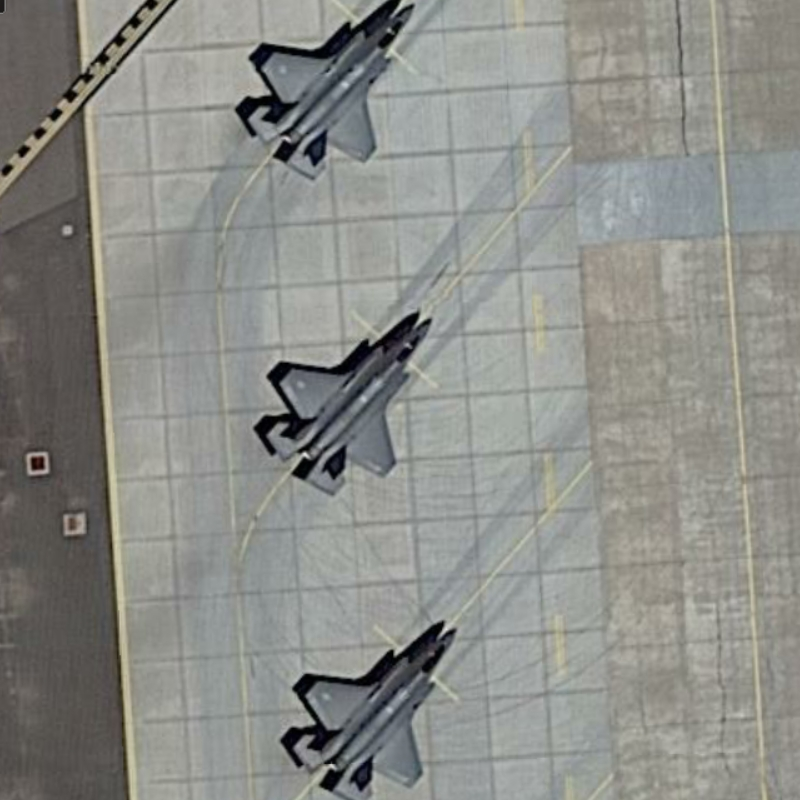A15: (249, 311, 438, 500), (232, 3, 421, 187), (277, 619, 464, 800)
